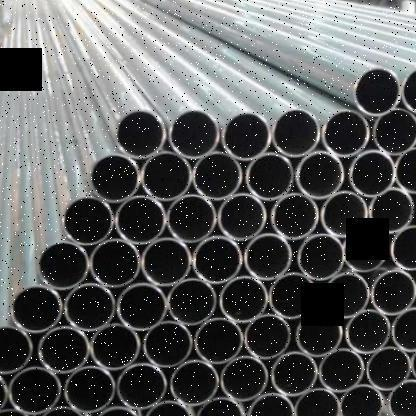pipe: (35, 241, 90, 289), (64, 283, 116, 332), (38, 326, 91, 374), (116, 110, 166, 160), (141, 152, 191, 202), (63, 196, 113, 245), (192, 235, 242, 284), (169, 110, 220, 158), (192, 152, 243, 200), (9, 368, 62, 414), (294, 152, 344, 200), (91, 154, 141, 202), (166, 194, 216, 242), (116, 196, 166, 244), (141, 238, 191, 286), (90, 239, 140, 287), (116, 282, 166, 330), (12, 284, 62, 332), (218, 193, 268, 240), (272, 110, 320, 158), (222, 112, 270, 160), (246, 153, 294, 201), (220, 276, 269, 323), (90, 324, 140, 370), (117, 363, 167, 409), (65, 366, 115, 412), (354, 68, 401, 116), (323, 110, 370, 158), (348, 150, 396, 197), (272, 193, 320, 240), (243, 234, 292, 280), (167, 278, 216, 324), (195, 318, 244, 364), (143, 321, 192, 367), (170, 359, 219, 405), (296, 234, 344, 280), (268, 272, 316, 318), (220, 356, 268, 401), (368, 187, 414, 233), (320, 191, 366, 237), (324, 273, 370, 319), (296, 312, 342, 358), (270, 352, 318, 396), (372, 109, 416, 155), (346, 310, 392, 354), (318, 349, 364, 392), (344, 228, 388, 272), (372, 271, 416, 315), (246, 314, 290, 358), (366, 347, 412, 389), (0, 326, 33, 374), (340, 384, 384, 416), (294, 389, 340, 416), (390, 226, 416, 271), (248, 392, 295, 416), (392, 307, 416, 352), (394, 146, 416, 194), (387, 380, 416, 416)
